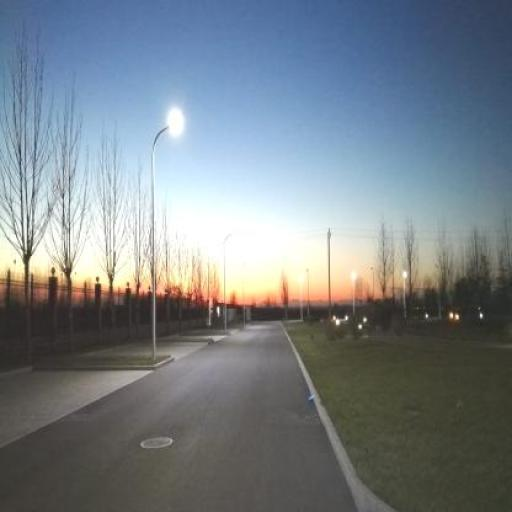street light: (151, 112, 183, 361), (224, 226, 238, 334), (242, 258, 250, 322), (402, 271, 408, 318), (298, 274, 303, 322), (352, 273, 357, 318)
